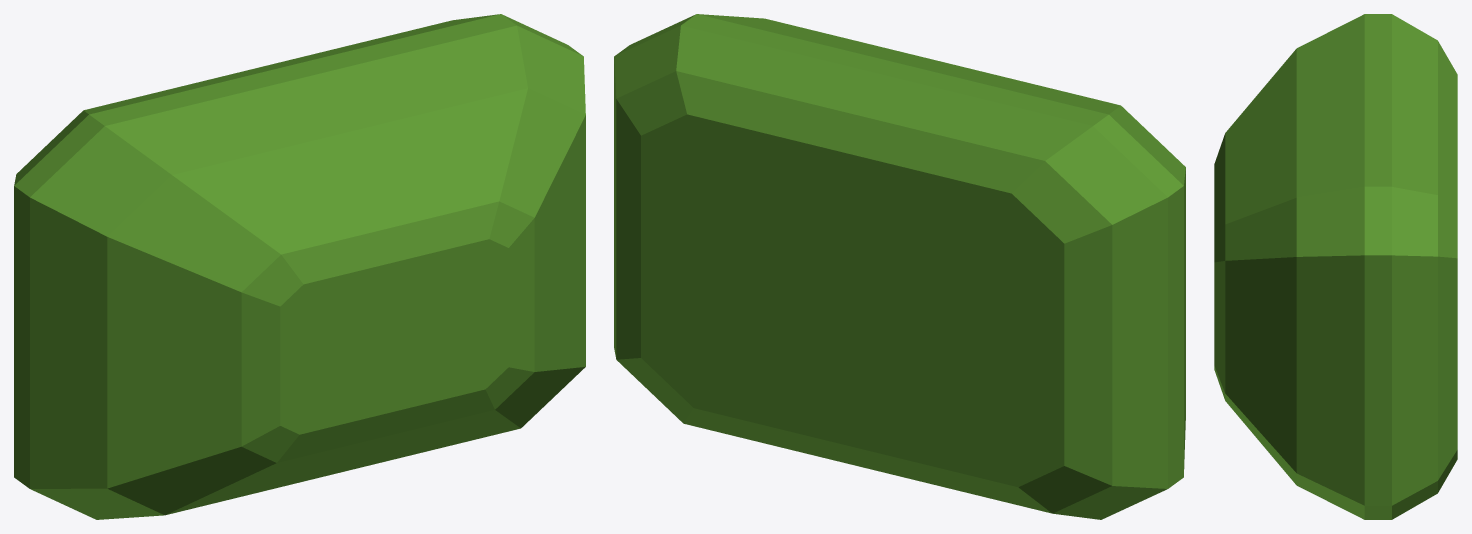
The model's file is GemStone_3.fbx.
3 renders of one model, left to right at view 1: azimuth 30°, elevation 25°; view 2: azimuth 150°, elevation 25°; view 3: azimuth 270°, elevation 25°, orthographic. The views are drawn at different scales.
Parts seen in each view (by area): view 1: GemStone_3; view 2: GemStone_3; view 3: GemStone_3.
Boxes of the visible parts, <box> form: GemStone_3: <box>14,14,585,519</box>; GemStone_3: <box>614,14,1185,519</box>; GemStone_3: <box>1214,14,1457,519</box>.
Bounding box in the file's own units: 76.56 × 51.75 × 33.94.
